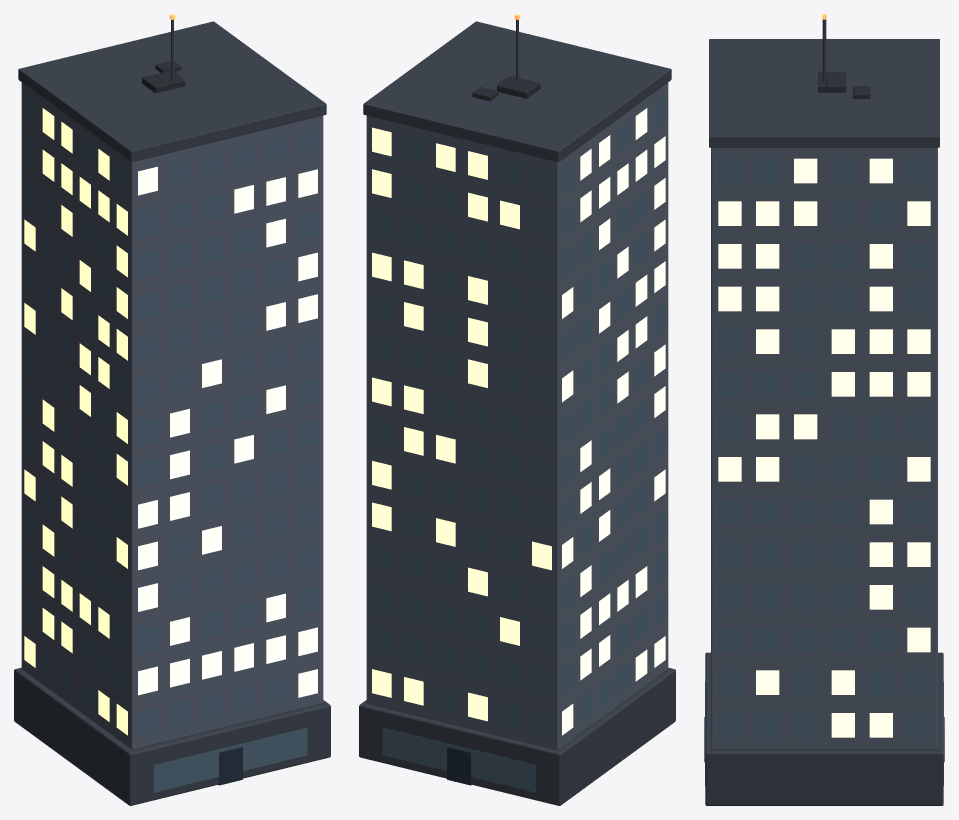
Rendered from bld_tower_a.glb.
3 renders of one model, left to right at view 1: azimuth 30°, elevation 25°; view 2: azimuth 150°, elevation 25°; view 3: azimuth 270°, elevation 25°, orthographic. The views are drawn at different scales.
Visible parts, largest first — view 1: Shaft, Windows, WindowsLit, Parapet, Podium, Storefront, Door; view 2: Shaft, Windows, Parapet, WindowsLit, Podium, Storefront, Door; view 3: Shaft, Windows, Parapet, WindowsLit, Podium.
Part boxes in pixels (left/top/right/bottom): Shaft: left=21, top=82, right=323, bottom=749; Windows: left=24, top=94, right=317, bottom=736; WindowsLit: left=24, top=108, right=317, bottom=735; Parapet: left=18, top=21, right=326, bottom=162; Podium: left=14, top=667, right=330, bottom=805; Storefront: left=154, top=727, right=307, bottom=792; Door: left=218, top=747, right=242, bottom=785; Shaft: left=366, top=82, right=668, bottom=749; Windows: left=372, top=94, right=665, bottom=736; Parapet: left=363, top=21, right=671, bottom=162; WindowsLit: left=372, top=108, right=665, bottom=735; Podium: left=359, top=667, right=675, bottom=805; Storefront: left=382, top=727, right=535, bottom=792; Door: left=447, top=747, right=471, bottom=785; Shaft: left=711, top=147, right=937, bottom=749; Windows: left=718, top=158, right=930, bottom=737; Parapet: left=709, top=39, right=939, bottom=147; WindowsLit: left=718, top=158, right=930, bottom=737; Podium: left=705, top=652, right=943, bottom=805.
Bounding box in the file's own units: 16.8 × 57.65 × 16.92.
